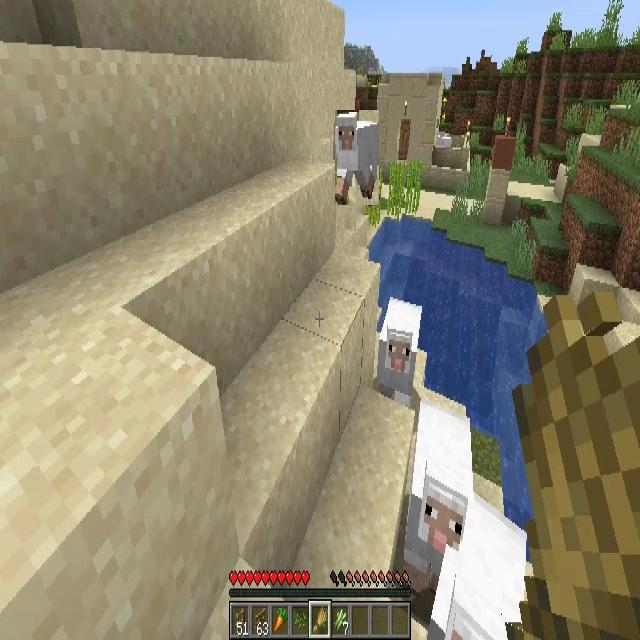sheep: (427, 491, 528, 639), (404, 404, 472, 577), (379, 298, 424, 406), (335, 110, 379, 205), (435, 130, 451, 149)
